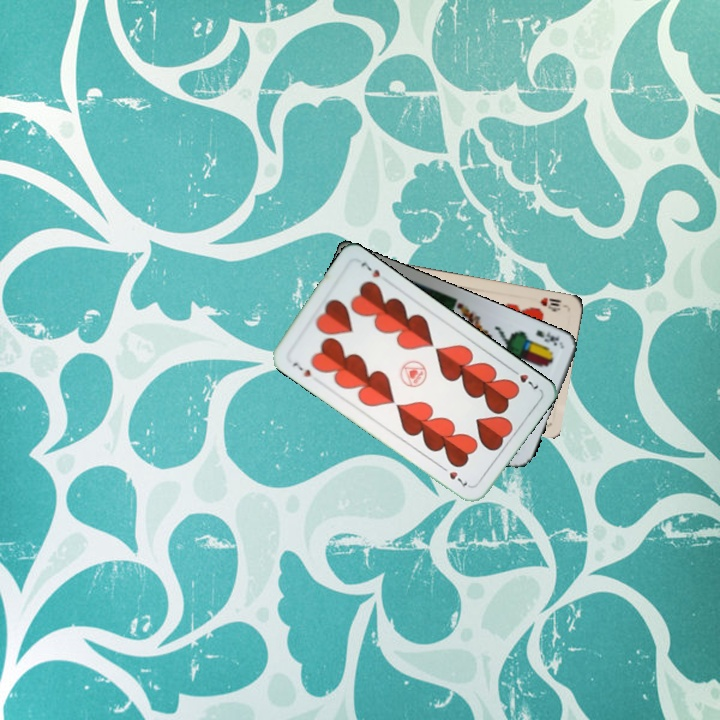EK: (532, 326, 562, 348)
H10: (536, 293, 564, 313)
H7: (507, 364, 542, 392), (288, 358, 314, 380)
